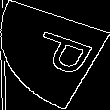P_SE: (15, 28, 95, 82)
